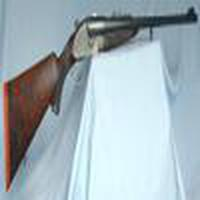gun: (3, 10, 196, 193)
